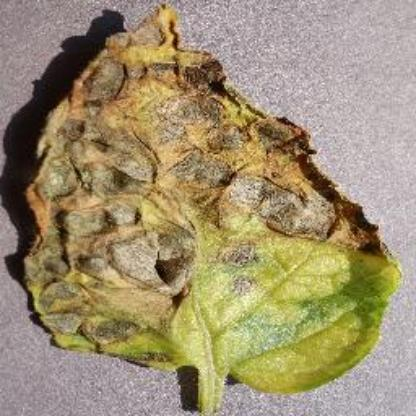Early-Blight: (20, 0, 400, 402)
